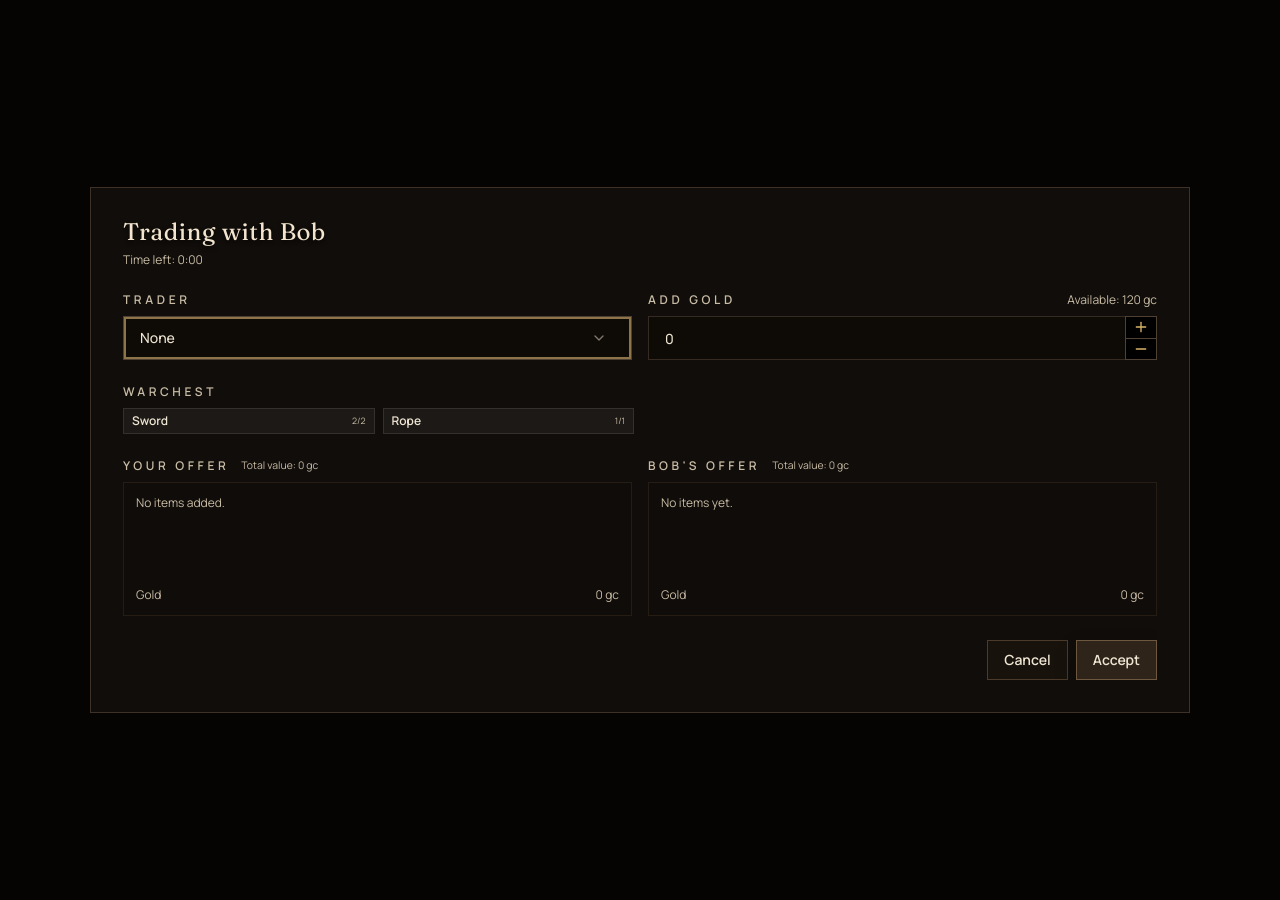
Test case: TradeSessionDialog: offer autosave › keeps a click made during the wait when the partner's change arrives, then saves it (BUG-42)
The width and height of the screenshot is (1280, 900).
Click the button "Rope 1/1" at (508, 421), box [382,408,634,434]
Wait 1000 ms
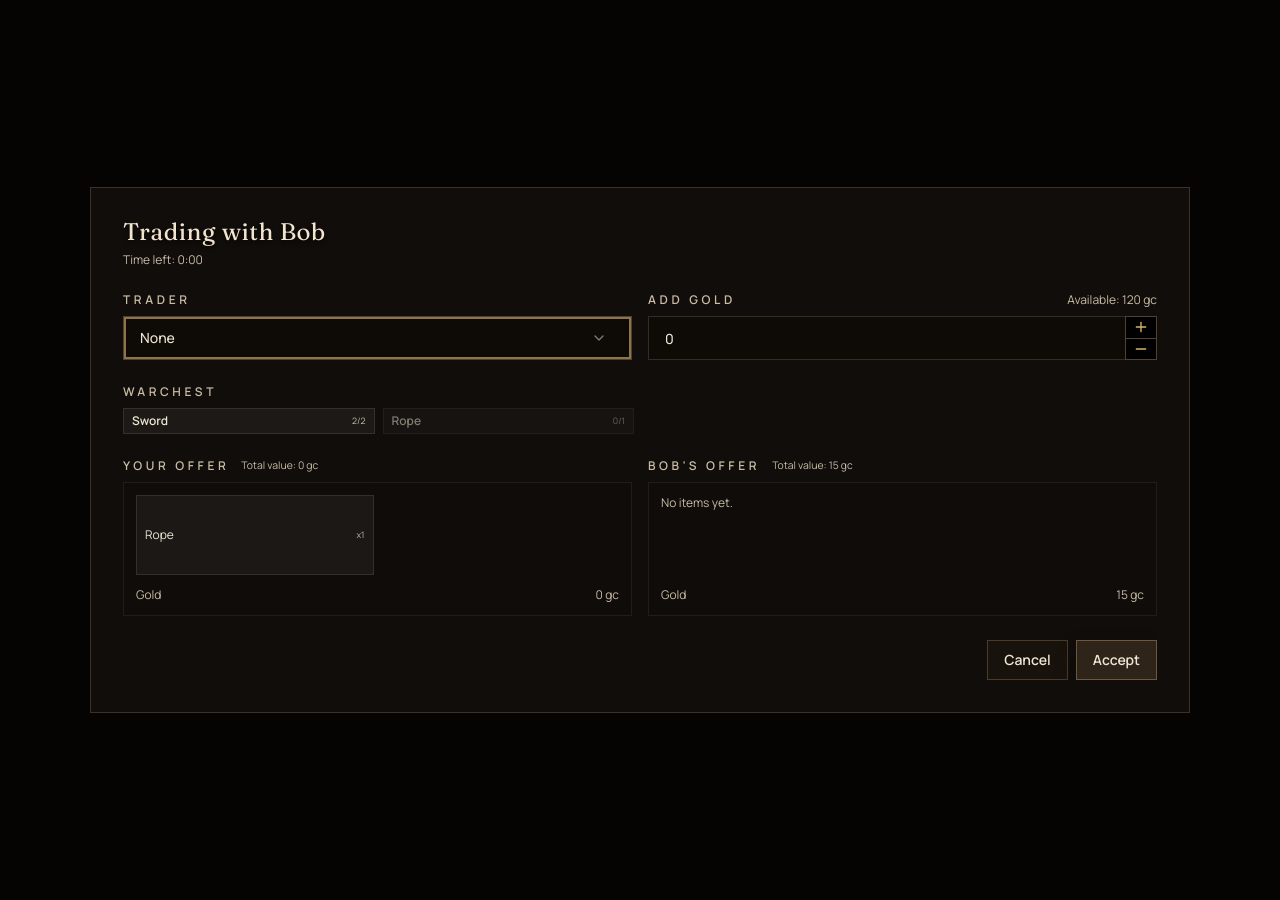
Result: the button "Rope x1" is shown at [136,495,374,575]
Result: the text "15 gc" is shown at [1116,587,1144,603]
